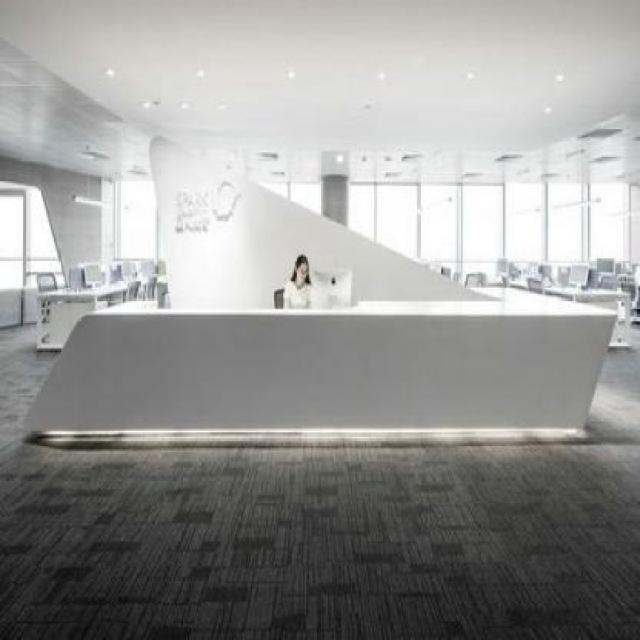frontdesk: (12, 290, 618, 452)
